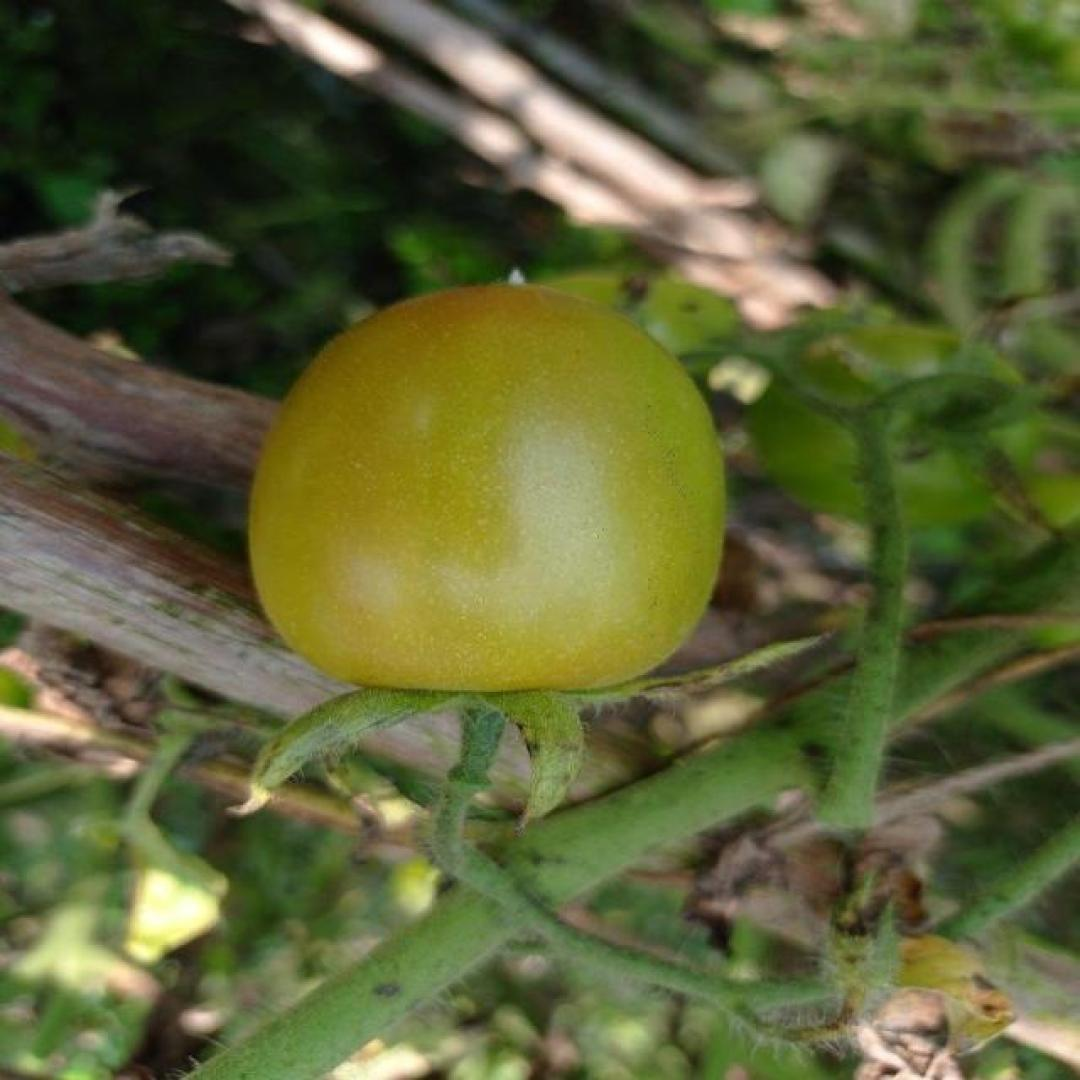setengah_matang: (241, 282, 729, 707)
